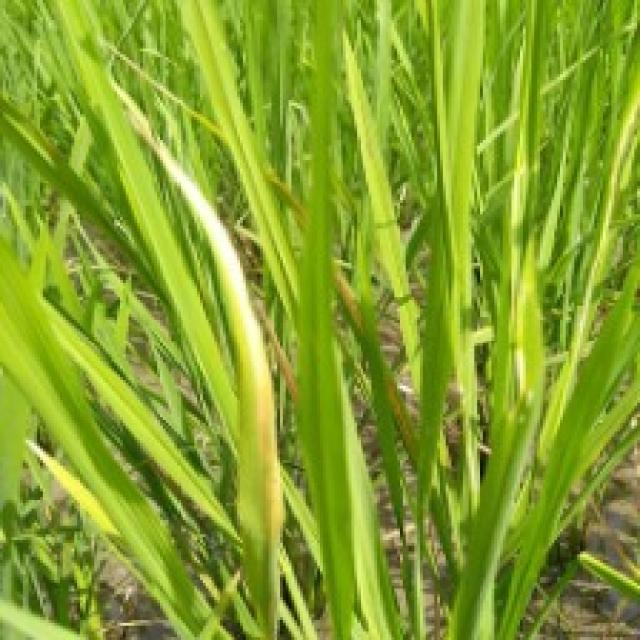Rice___Bacterial_Leaf_Blight: (112, 78, 283, 637)
